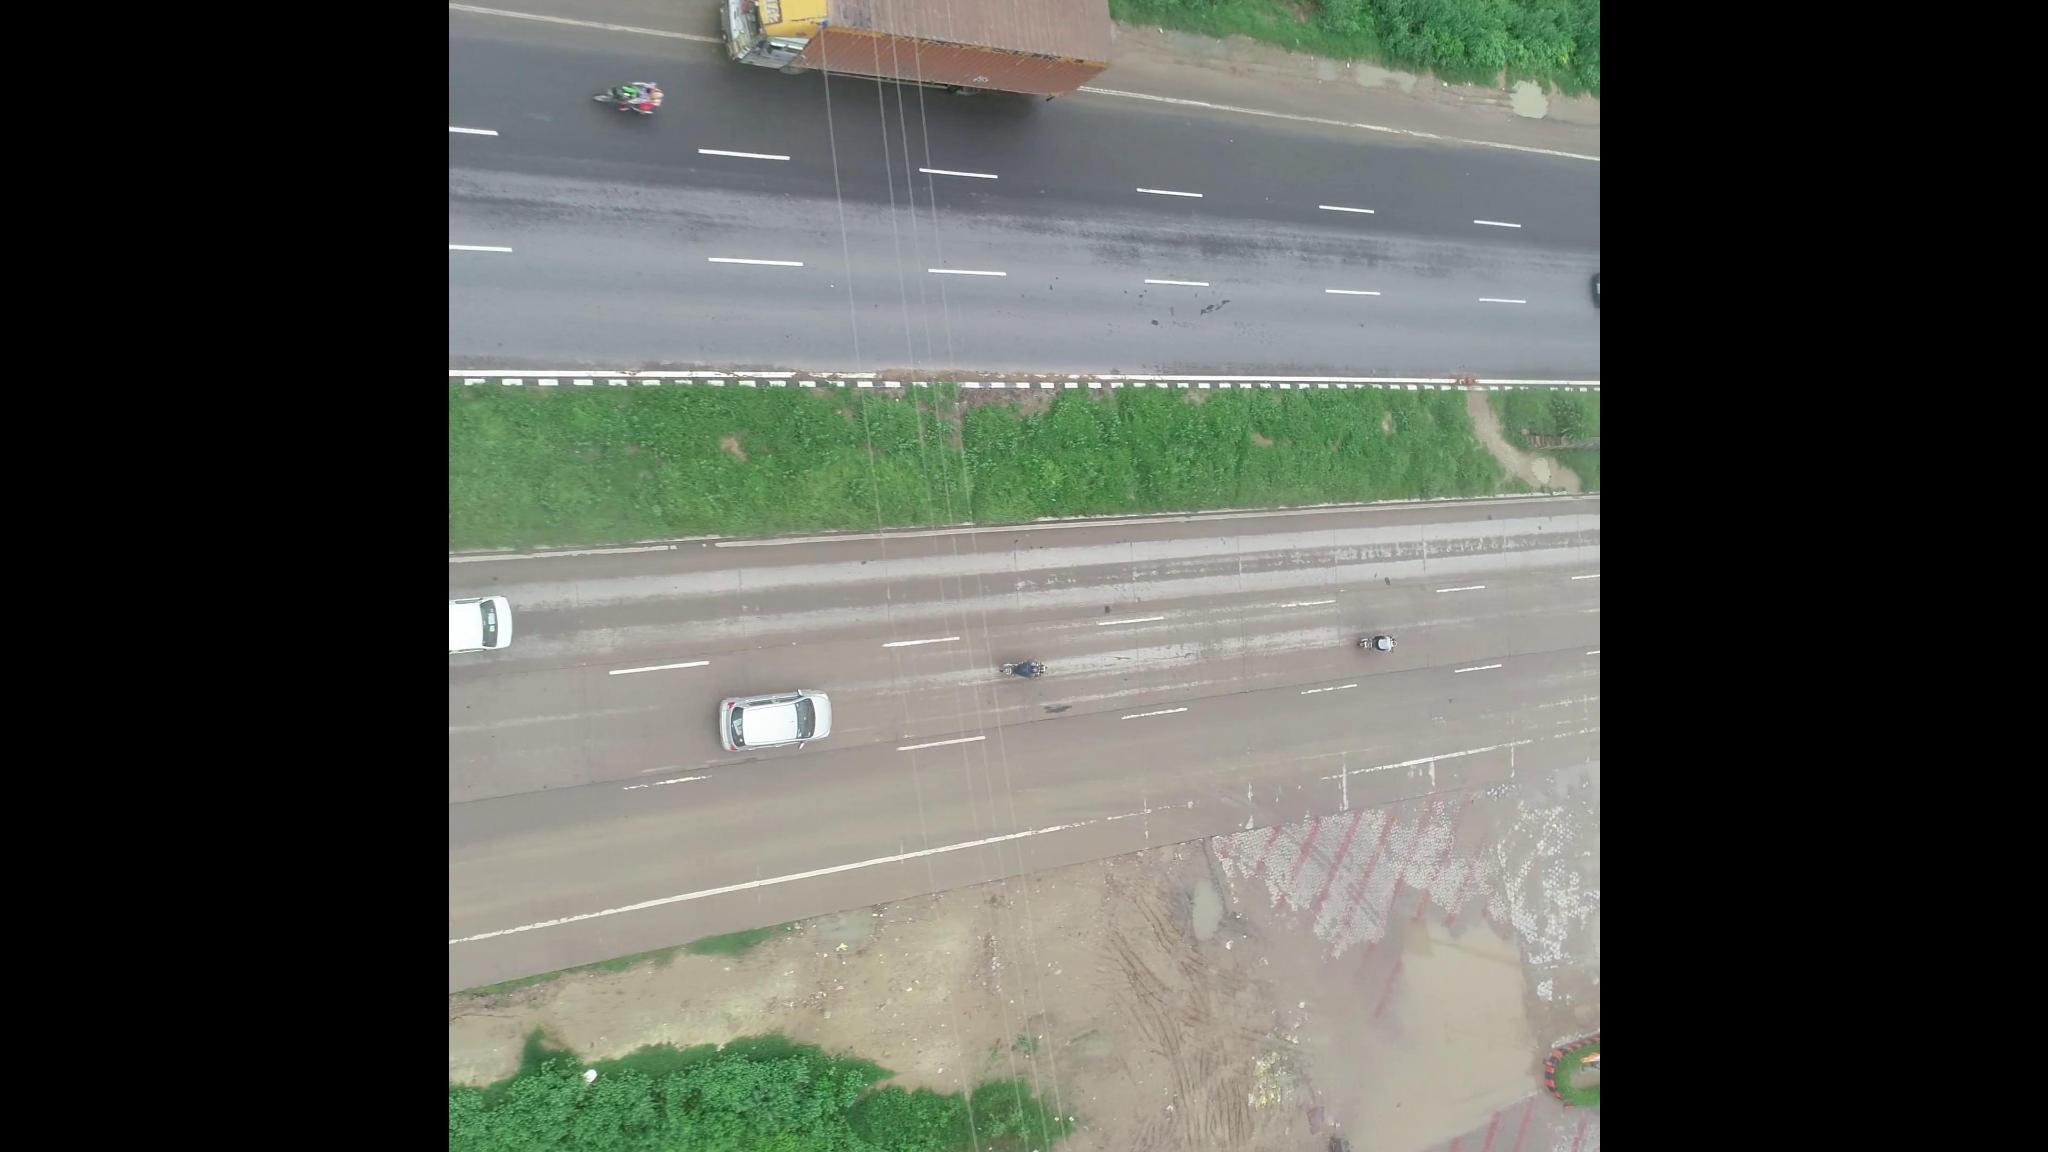Muddy_road: (506, 793, 788, 919), (814, 731, 1086, 847)
